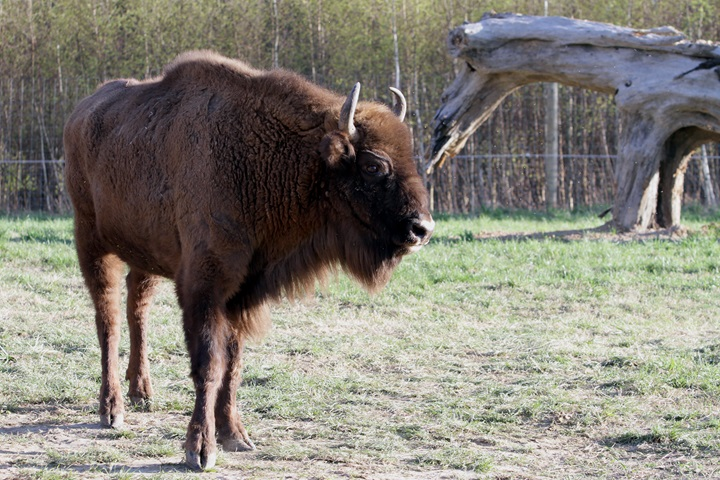zubr: (26, 42, 451, 480)
